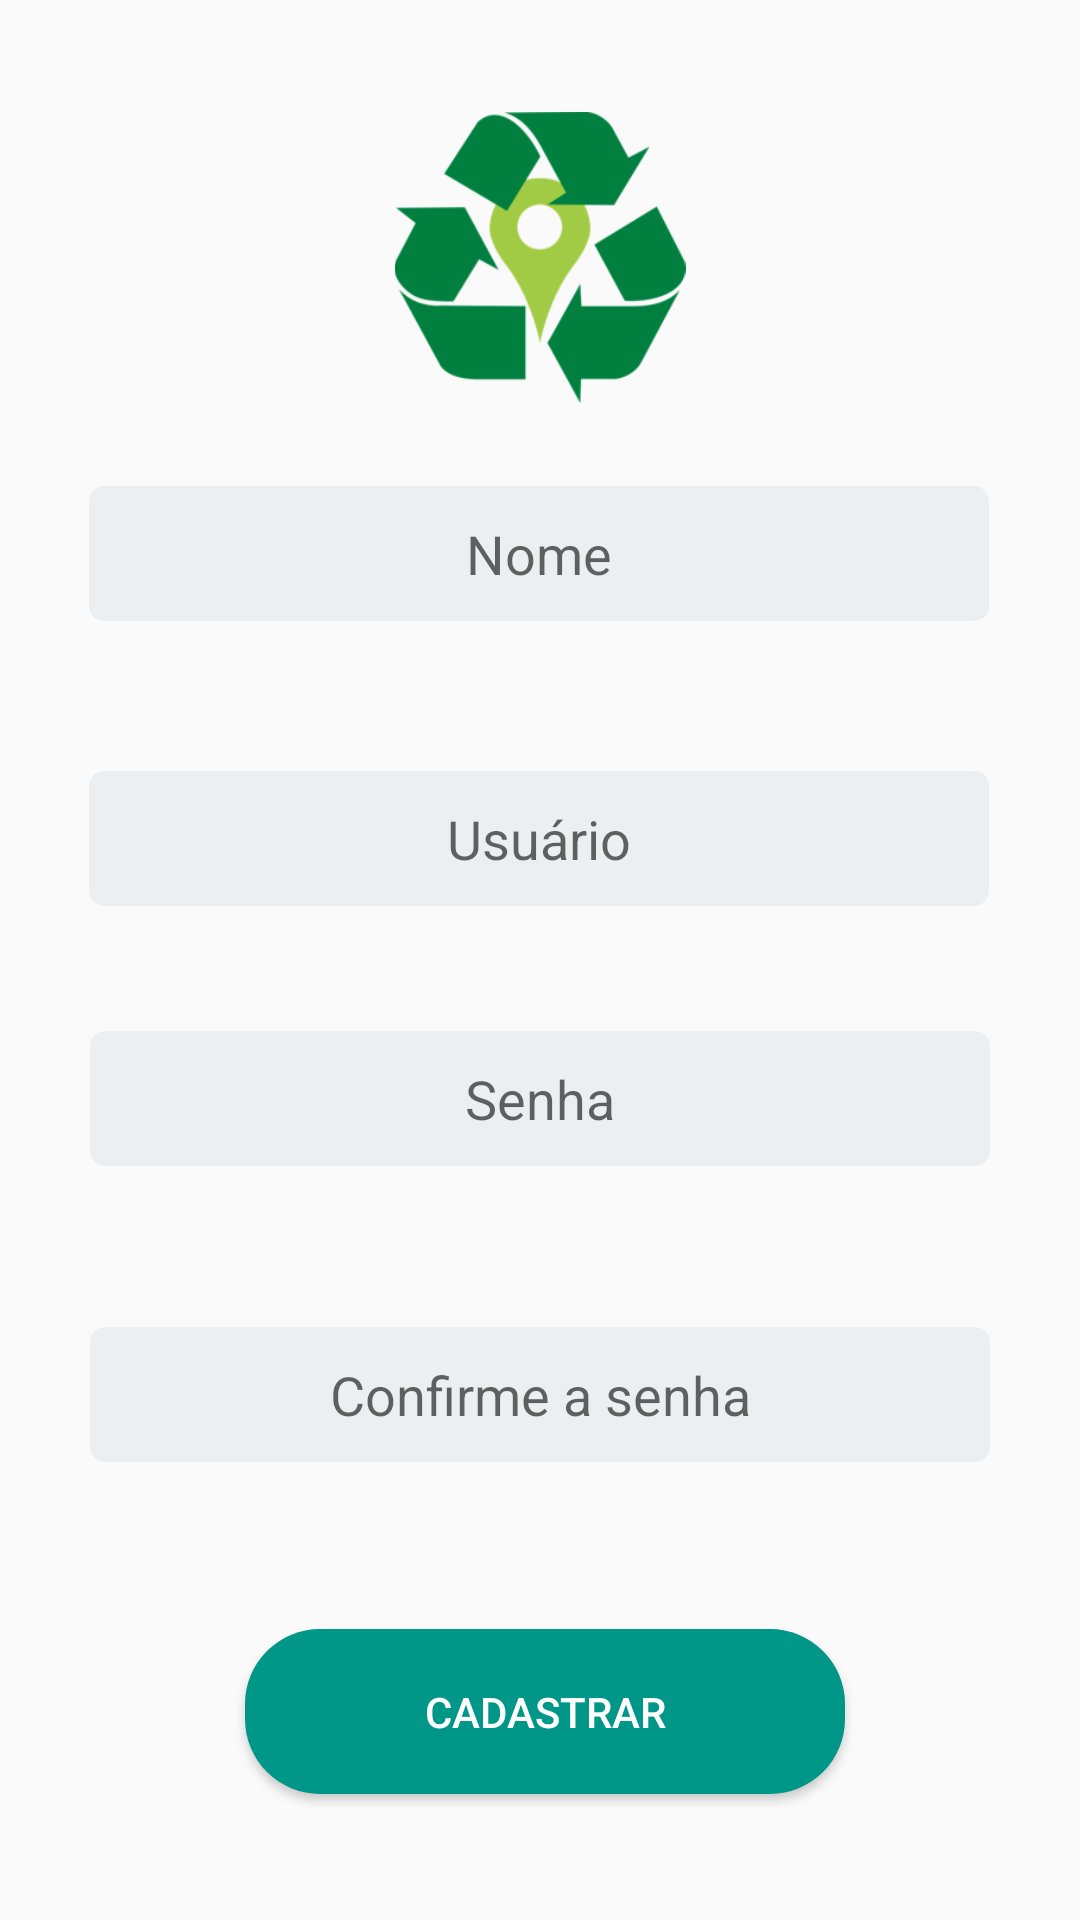

Icons on this 1080px×1920px Android screen, each with its box as box=[x1, y1, x2, y2]:
ecoloc: box=[395, 112, 686, 403]
